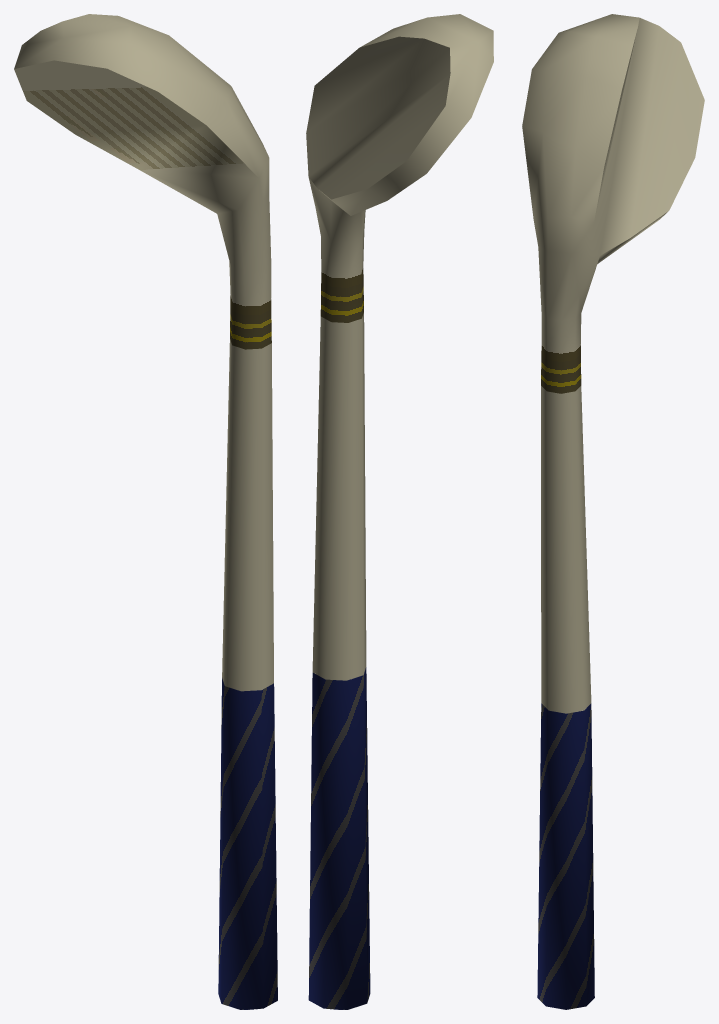
File: glf_culb_L__glf_club_SW_L.glb
3 views of the same model, side by side, from view 1: azimuth 30°, elevation 25°; view 2: azimuth 150°, elevation 25°; view 3: azimuth 270°, elevation 25° (orthographic). The views are drawn at different scales.
Visible parts, largest first — view 1: polygon1, polygon0; view 2: polygon1, polygon0; view 3: polygon1, polygon0.
Boxes of the visible parts, x1=… form: polygon1: x1=14, y1=14, x2=273, y2=691; polygon0: x1=218, y1=678, x2=277, y2=1009; polygon1: x1=306, y1=14, x2=493, y2=680; polygon0: x1=308, y1=667, x2=370, y2=1009; polygon1: x1=522, y1=14, x2=704, y2=713; polygon0: x1=537, y1=703, x2=594, y2=1009.
Size of the model in its own units: 1.64 by 7.54 by 1.35.
Materials: 2 (2 with a texture image).
